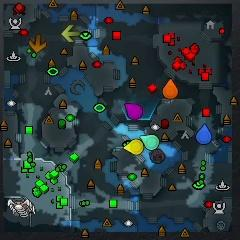p1: (196, 123, 213, 146)
p2: (139, 134, 159, 151)
p3: (124, 103, 143, 120)
p4: (123, 139, 144, 155)
p5: (163, 78, 179, 99)
x2: (62, 24, 81, 43)
x5: (28, 34, 47, 53)
